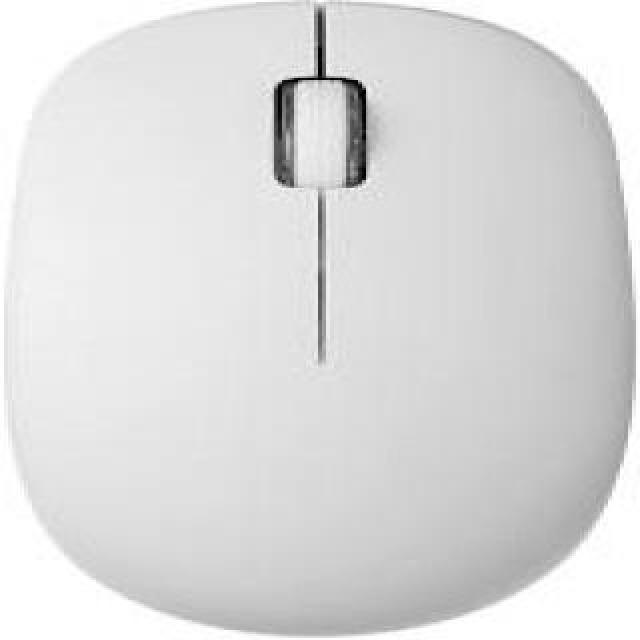mouse: (30, 0, 604, 608)
